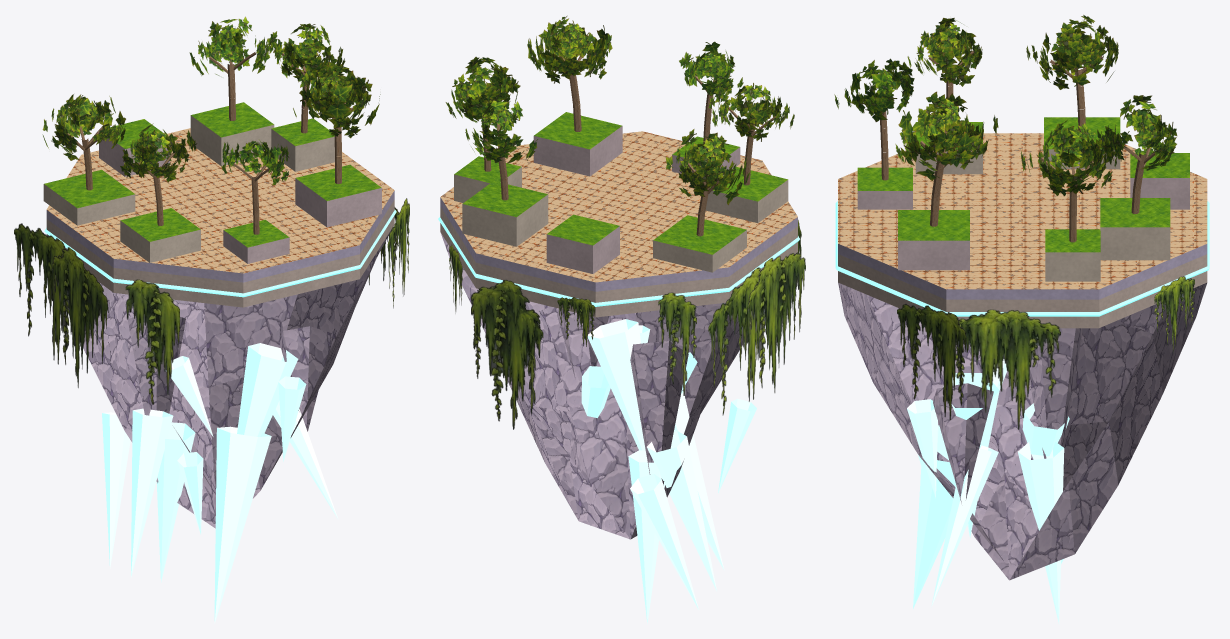
File: SKY_ISLAND_04.glb
The picture shows the model from 3 angles, left to right: view 1: azimuth 30°, elevation 25°; view 2: azimuth 150°, elevation 25°; view 3: azimuth 270°, elevation 25°; orthographic projection. The views are drawn at different scales.
Visible parts, largest first — view 1: S_Small12_Skin.001, S_Small12_Crystals.001, S_Small12_Trees.001, S_Small12_Moss.001; view 2: S_Small12_Skin.001, S_Small12_Trees.001, S_Small12_Moss.001, S_Small12_Crystals.001; view 3: S_Small12_Skin.001, S_Small12_Trees.001, S_Small12_Crystals.001, S_Small12_Moss.001.
Boxes of the visible parts, box(x1,y1,x2,y2) form: S_Small12_Skin.001: box(43, 102, 396, 528); S_Small12_Crystals.001: box(102, 343, 338, 623); S_Small12_Trees.001: box(42, 16, 380, 234); S_Small12_Moss.001: box(14, 198, 409, 404); S_Small12_Skin.001: box(438, 112, 799, 539); S_Small12_Trees.001: box(445, 15, 794, 236); S_Small12_Moss.001: box(449, 220, 805, 429); S_Small12_Crystals.001: box(581, 319, 756, 624); S_Small12_Skin.001: box(835, 117, 1209, 580); S_Small12_Trees.001: box(834, 15, 1177, 242); S_Small12_Crystals.001: box(907, 359, 1069, 624); S_Small12_Moss.001: box(897, 276, 1194, 429).
Bounding box in the file's own units: 14.36 × 23.03 × 13.37.
9 materials, 7 textured.
